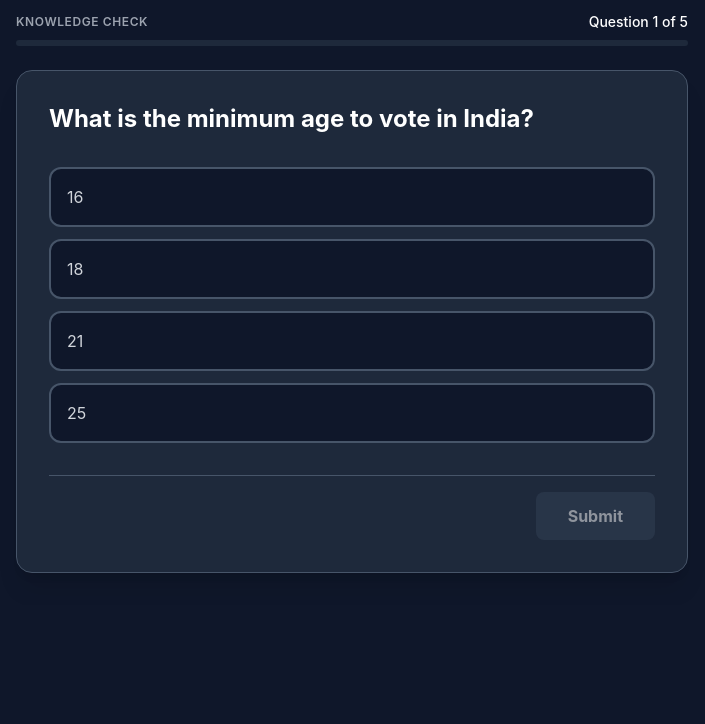
Scenario: QuizWidget › shows explanation after answering
Click the button "16". click: (75, 197)
box: [49,167,655,227]
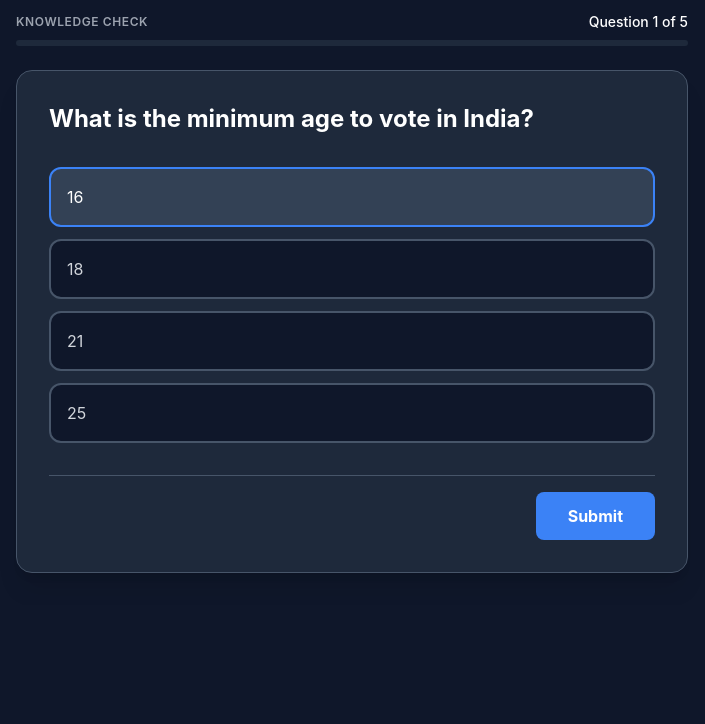
Click the button "Submit". click: (595, 516)
box: [536,492,655,540]
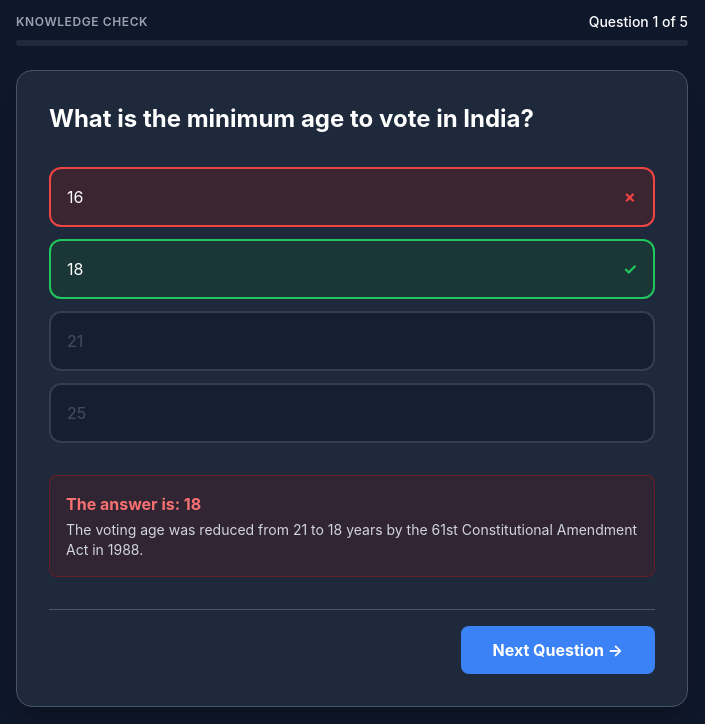
Check: the text "voting age was reduced" is shown, box [66,521,637,558]
